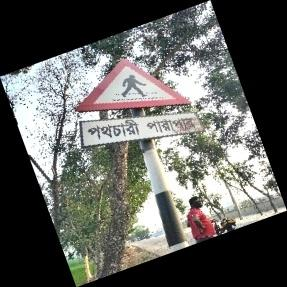Pedestrian-crossing: (74, 58, 201, 149)
